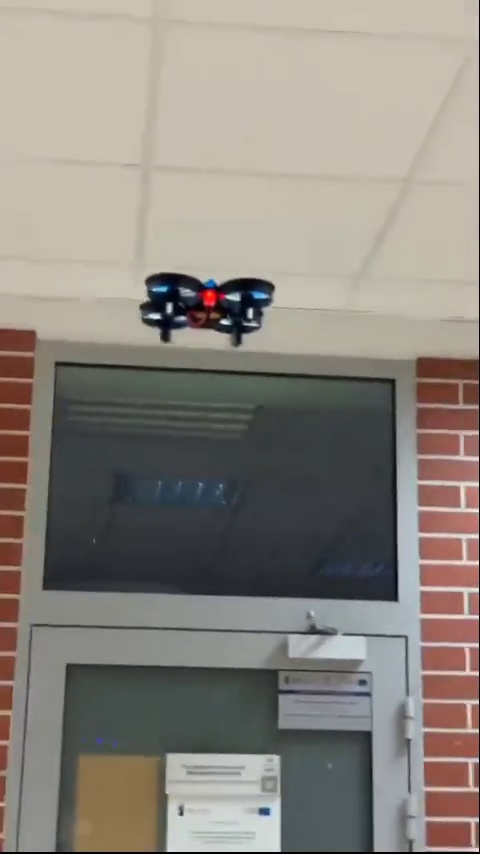drone: (140, 269, 277, 348)
